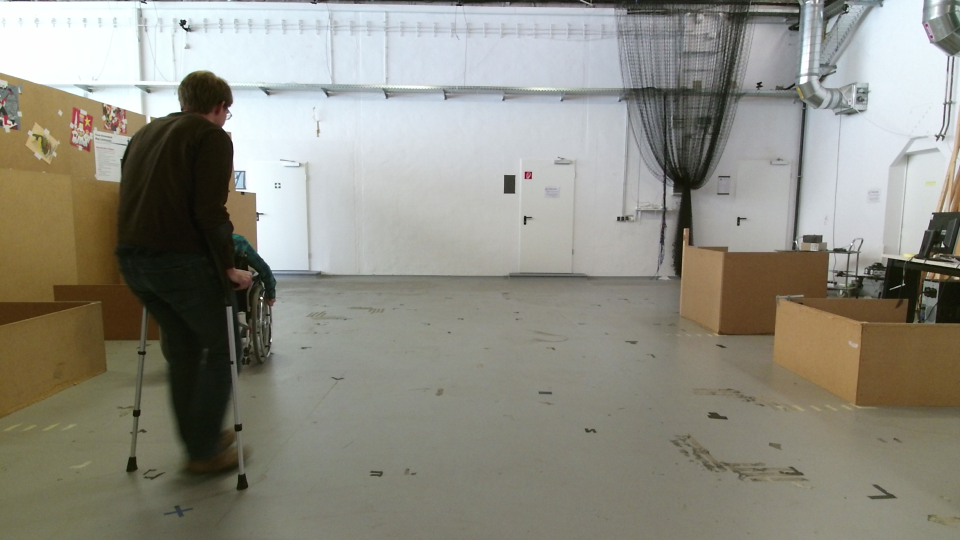crutches: (104, 55, 265, 507)
